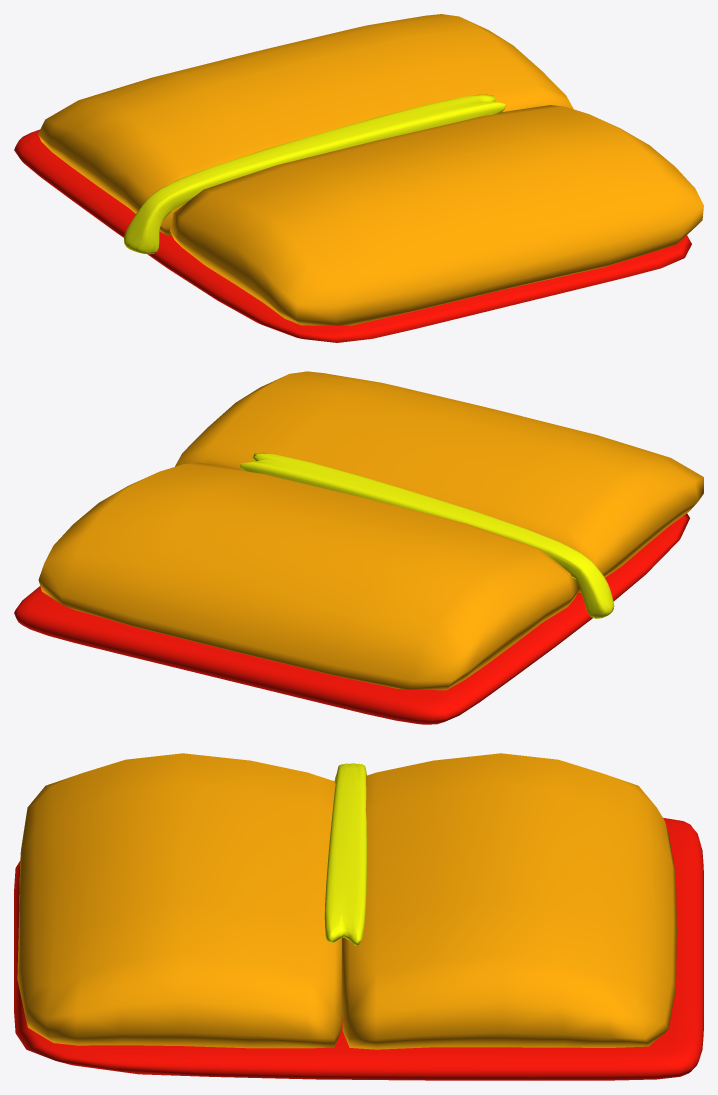
The model's file is BOOK.fbx.
The picture shows the model from 3 angles, top to bottom: view 1: azimuth 30°, elevation 25°; view 2: azimuth 150°, elevation 25°; view 3: azimuth 270°, elevation 25°; orthographic projection. The views are drawn at different scales.
Parts seen in each view (by area): view 1: Cube.058; view 2: Cube.058; view 3: Cube.058.
Part boxes in pixels (x1,y1,x2,y2): Cube.058: (14,14,703,342); Cube.058: (14,371,703,724); Cube.058: (14,753,703,1080).
Size of the model in its own units: 268 by 58.06 by 294.
